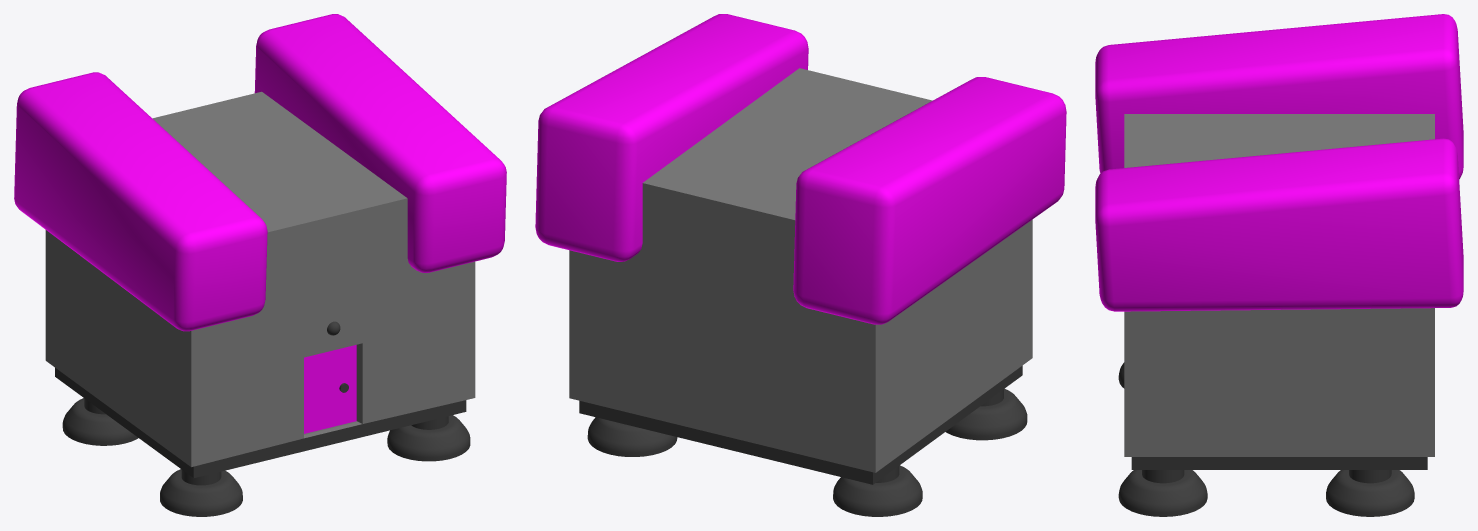
The model's file is Barracks.fbx.
3 views of the same model, side by side, from view 1: azimuth 30°, elevation 25°; view 2: azimuth 150°, elevation 25°; view 3: azimuth 270°, elevation 25° (orthographic). The views are drawn at different scales.
Visible parts, largest first — view 1: Cube.009, Cube.010, Cylinder.015, Cylinder.017, Cylinder.019; view 2: Cube.009, Cube.010, Cylinder.019, Cylinder.015, Cylinder.018; view 3: Cube.010, Cube.009, Cylinder.017, Cylinder.018.
Part boxes in pixels (box(x1,y1,x2,y2)): Cube.009: box(45, 91, 475, 477); Cube.010: box(14, 14, 506, 331); Cylinder.015: box(160, 469, 242, 516); Cylinder.017: box(387, 415, 470, 461); Cylinder.019: box(62, 398, 138, 445); Cube.009: box(569, 68, 1032, 484); Cube.010: box(535, 14, 1066, 324); Cylinder.019: box(833, 465, 922, 516); Cylinder.015: box(946, 388, 1027, 440); Cylinder.018: box(587, 417, 677, 456); Cube.010: box(1095, 14, 1463, 311); Cube.009: box(1124, 114, 1434, 469); Cylinder.017: box(1118, 470, 1207, 516); Cylinder.018: box(1326, 470, 1414, 516).
Bounding box in the file's own units: 185 × 173 × 168.
